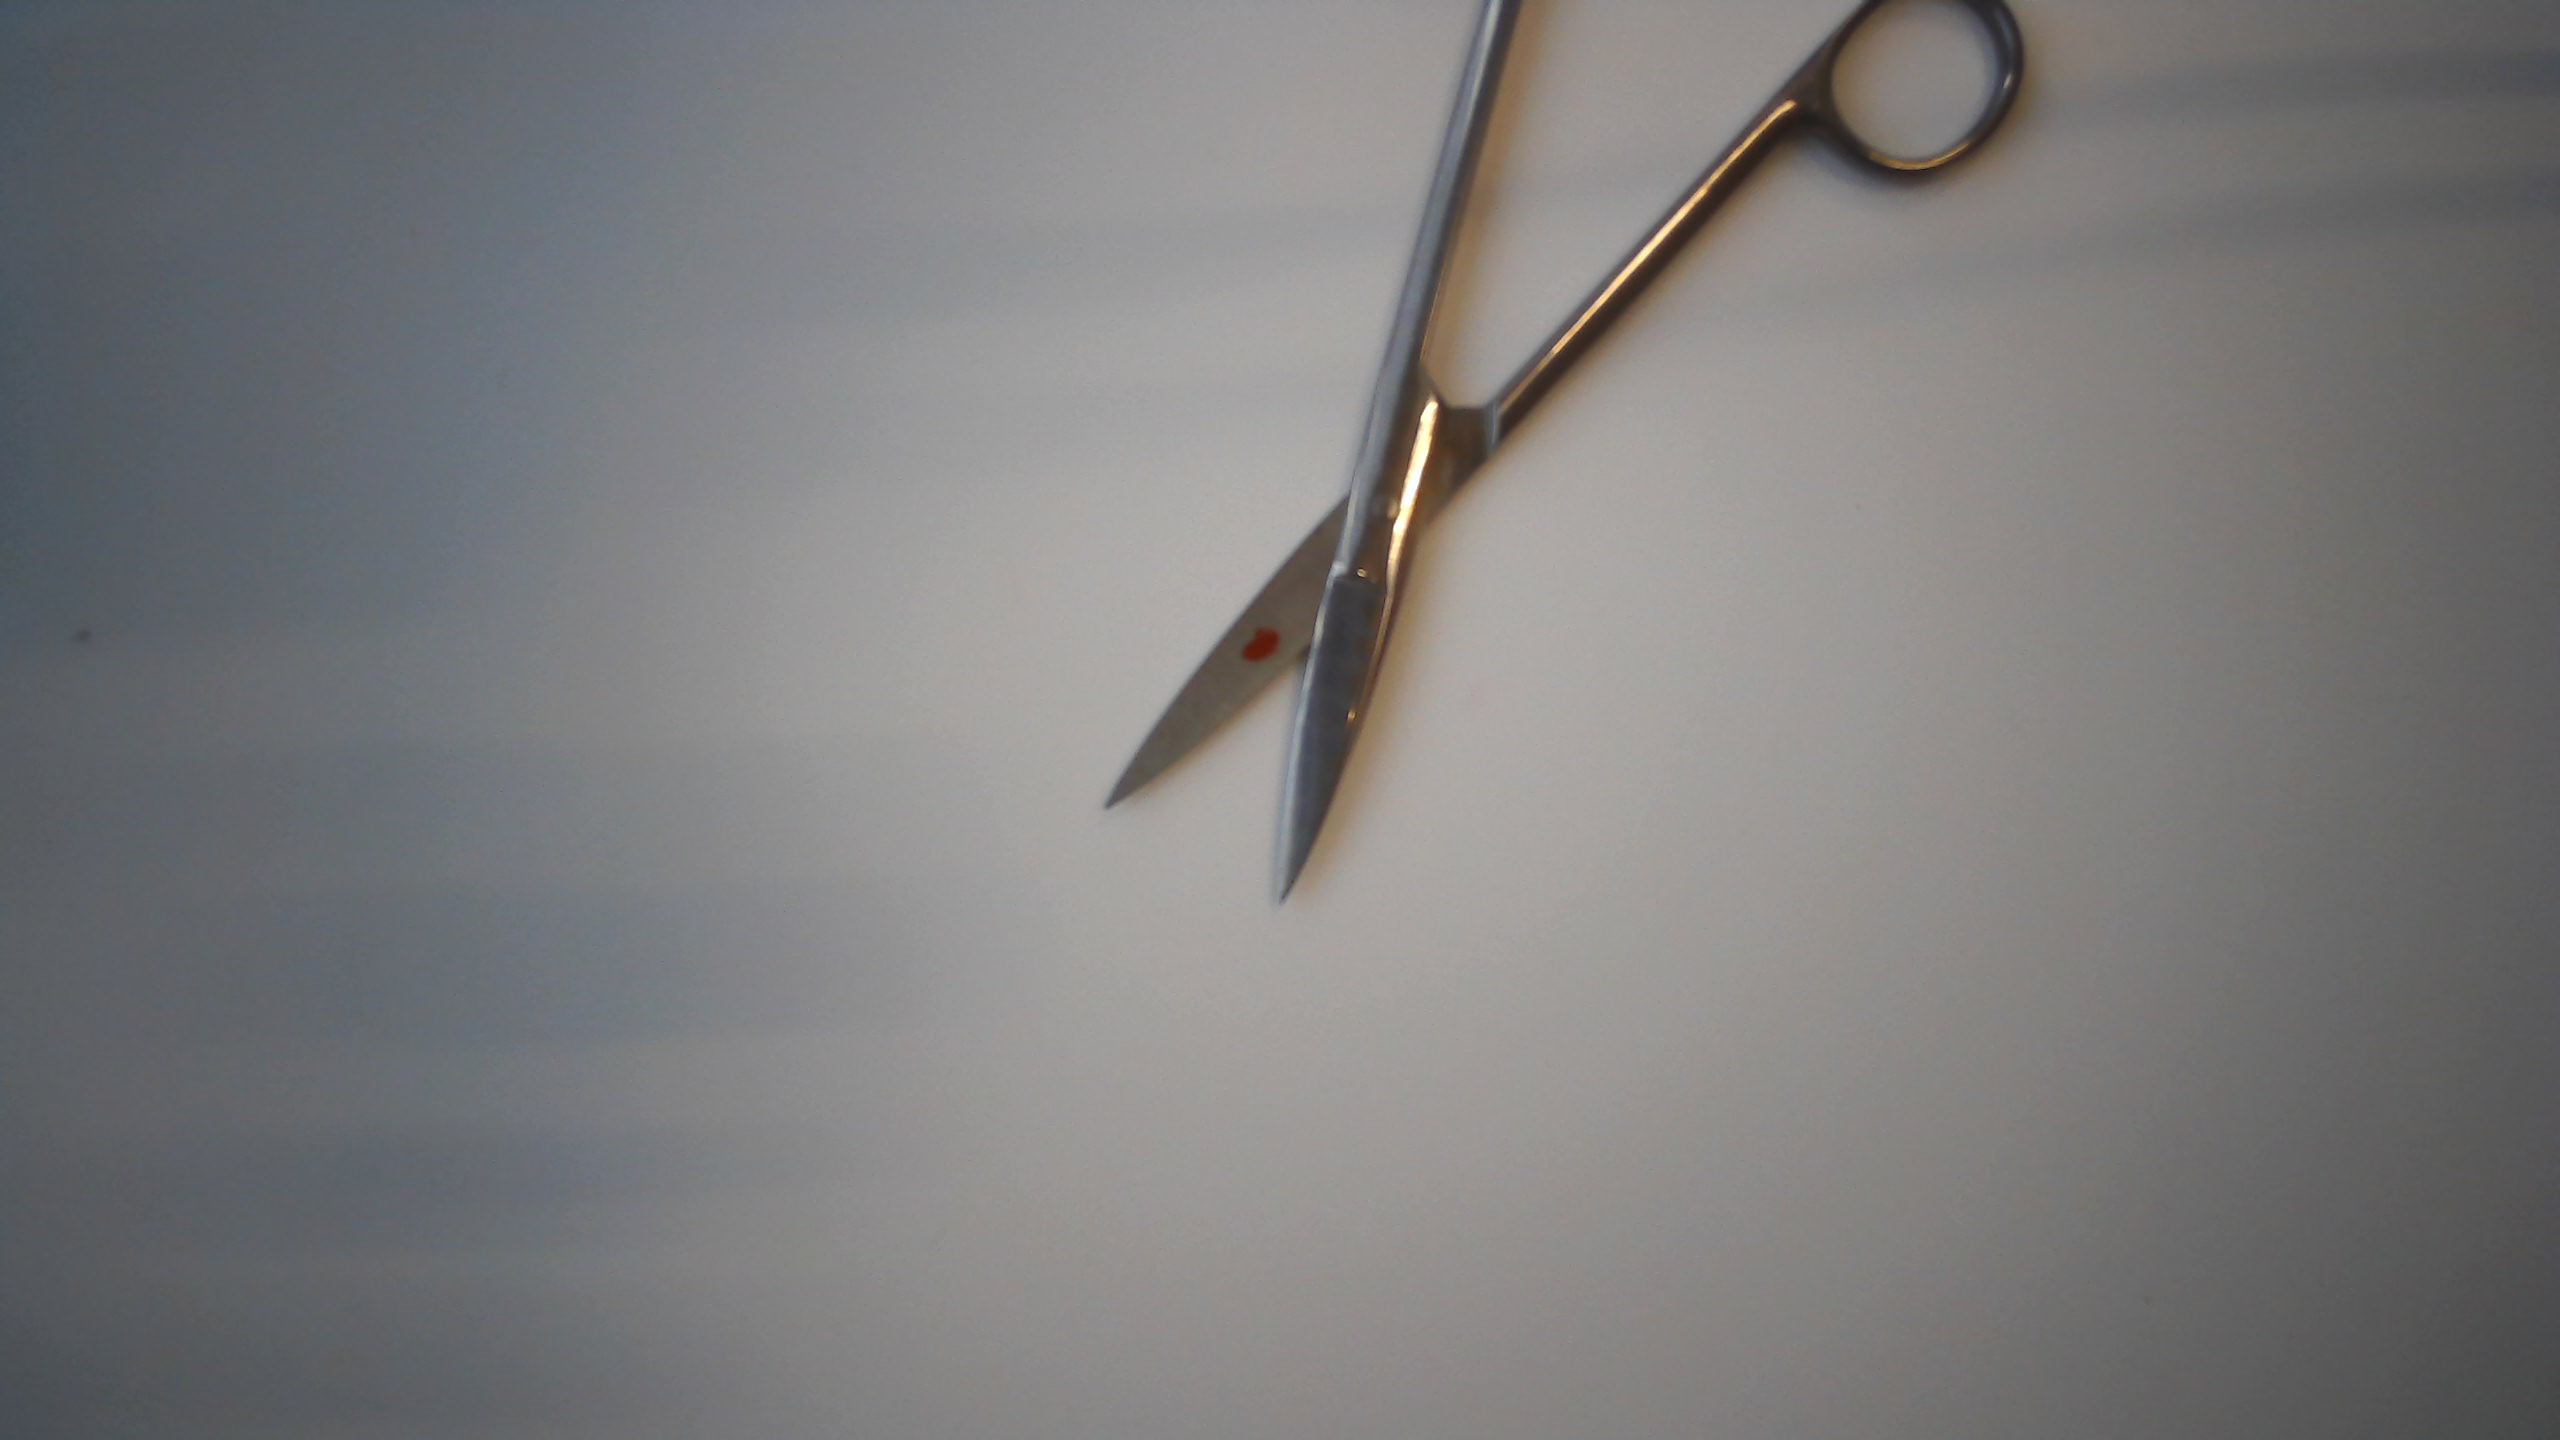Stain: (1222, 614, 1289, 677)
